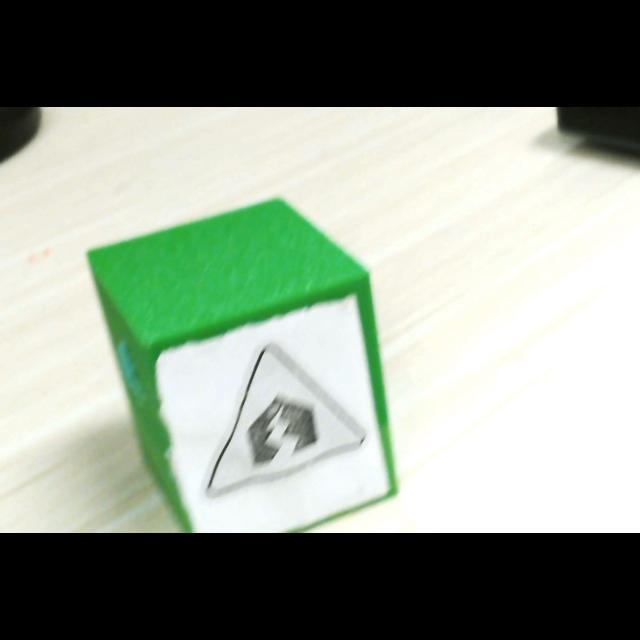Earthquake: (207, 343, 368, 500), (205, 342, 368, 496)
